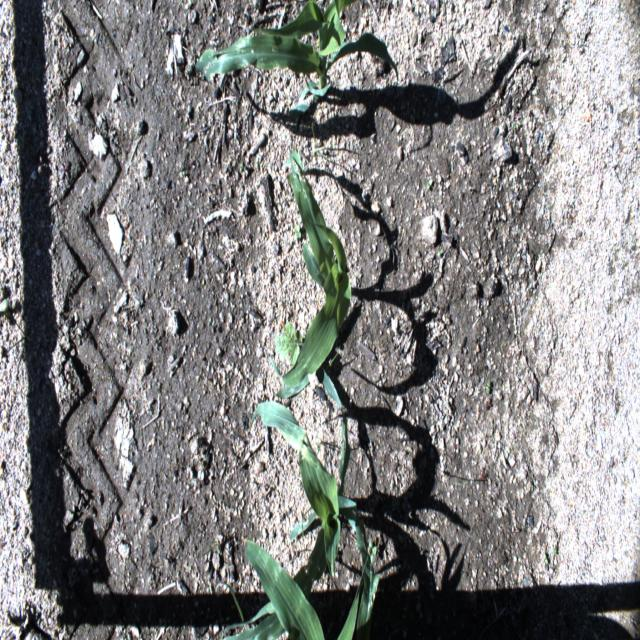crop: (195, 0, 399, 135), (250, 358, 356, 585), (220, 502, 382, 639), (268, 170, 351, 399)
weed: (209, 581, 250, 637), (274, 321, 317, 367), (280, 148, 309, 180), (308, 122, 330, 161), (323, 346, 340, 372), (316, 436, 336, 458), (202, 538, 222, 557), (292, 549, 315, 562), (366, 538, 377, 564), (0, 297, 9, 325), (59, 160, 70, 180), (483, 378, 492, 396), (293, 224, 302, 241), (448, 479, 466, 487), (253, 156, 260, 170), (542, 552, 549, 566), (308, 316, 315, 328), (578, 34, 584, 48), (426, 178, 432, 191), (551, 545, 557, 558), (239, 160, 243, 176), (437, 248, 443, 258), (511, 121, 516, 133), (516, 119, 522, 127), (630, 234, 635, 243), (617, 6, 624, 12), (613, 247, 618, 253)
